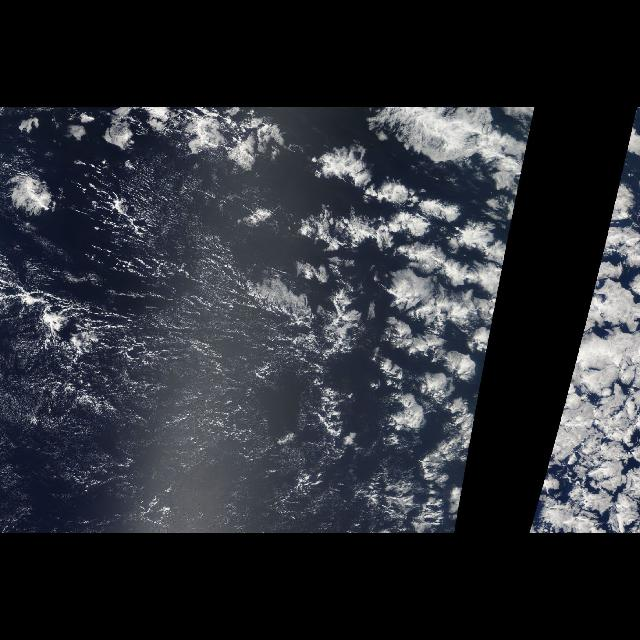Flower: (243, 114, 534, 534), (526, 114, 640, 534)
Sugar: (3, 340, 315, 532)
